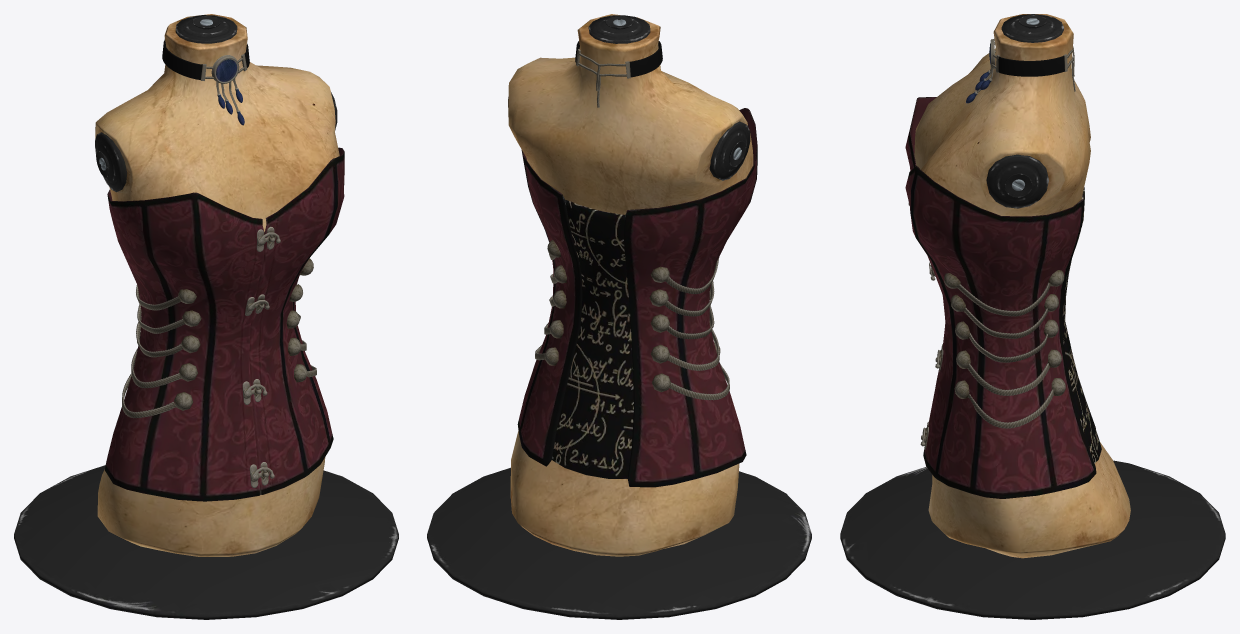
The model's file is Corset.glb.
3 views of the same model, side by side, from view 1: azimuth 30°, elevation 25°; view 2: azimuth 150°, elevation 25°; view 3: azimuth 270°, elevation 25° (orthographic).
Parts seen in each view (by area): view 1: Corset; view 2: Corset; view 3: Corset.
Boxes of the visible parts, x1,y1,x2,y2 form: Corset: (14,14,398,619); Corset: (427,14,811,619); Corset: (840,14,1225,619).
Bounding box in the file's own units: 0.039 × 0.0578 × 0.039.
1 material, 1 textured.
